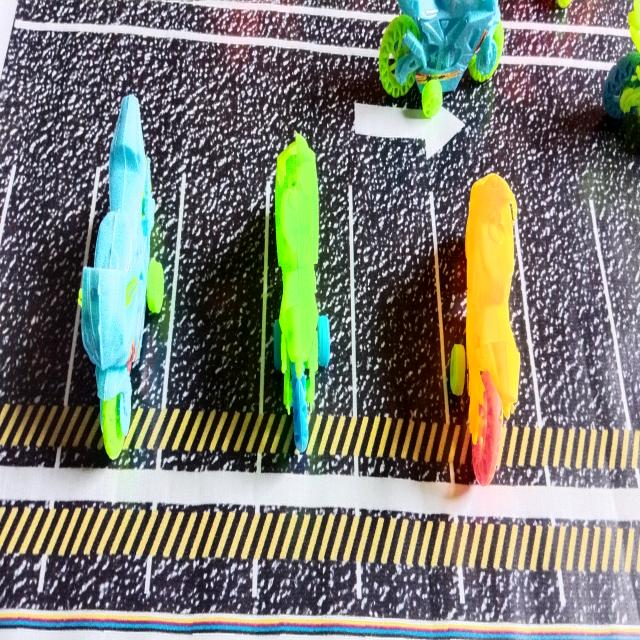bikes: (380, 0, 502, 117)
occupied: (64, 94, 184, 458), (439, 173, 532, 486), (269, 133, 352, 450)
slots: (522, 169, 624, 429), (167, 162, 266, 410), (354, 156, 445, 425), (0, 140, 91, 400)
